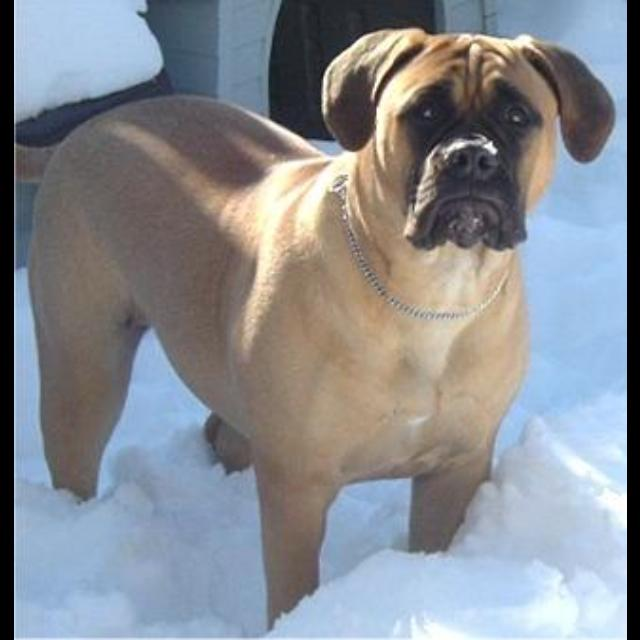bullmastiff: (24, 27, 616, 630)
